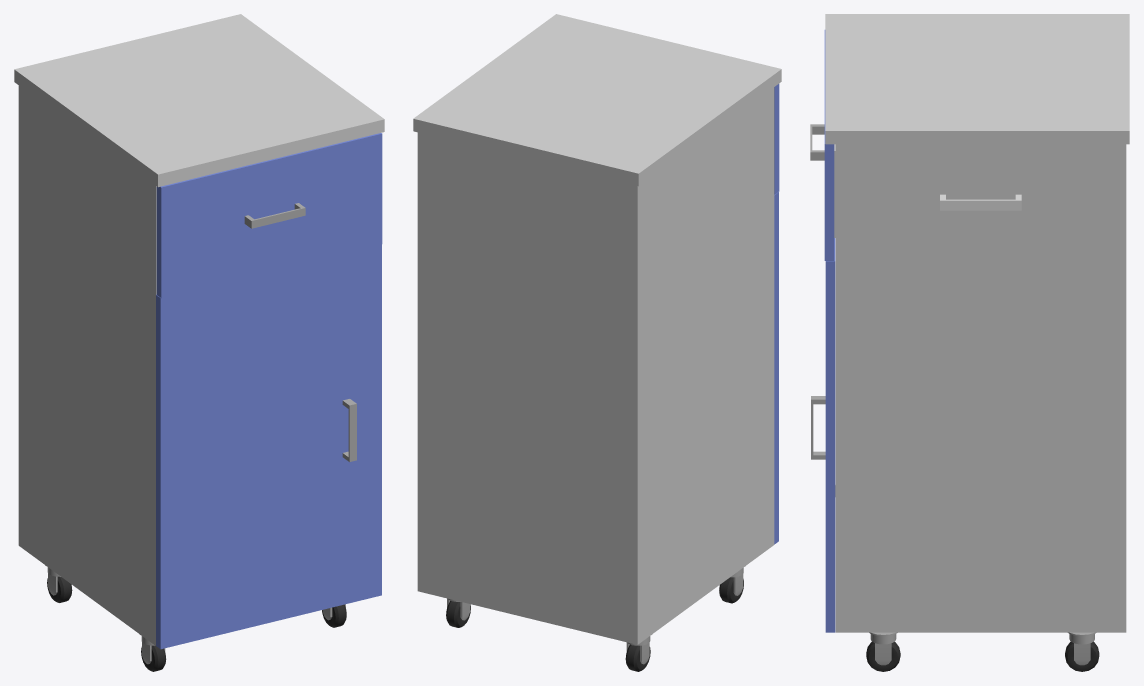
File: BedSideTable.fbx
The picture shows the model from 3 angles, left to right: view 1: azimuth 30°, elevation 25°; view 2: azimuth 150°, elevation 25°; view 3: azimuth 270°, elevation 25°; orthographic projection. The views are drawn at different scales.
Visible parts, largest first — view 1: BedSideTable, Shelf2, Shelf1; view 2: BedSideTable, Shelf2, Shelf1; view 3: BedSideTable, Shelf2, Shelf1.
Boxes of the visible parts, x1,y1,x2,y2 form: BedSideTable: (14, 14, 384, 671); Shelf2: (156, 244, 381, 649); Shelf1: (156, 133, 382, 298); BedSideTable: (413, 14, 781, 671); Shelf2: (774, 192, 778, 544); Shelf1: (774, 84, 779, 194); BedSideTable: (825, 14, 1129, 671); Shelf2: (811, 238, 835, 632); Shelf1: (810, 30, 835, 260).
Bounding box in the file's own units: 42.71 × 90.15 × 47.35.
